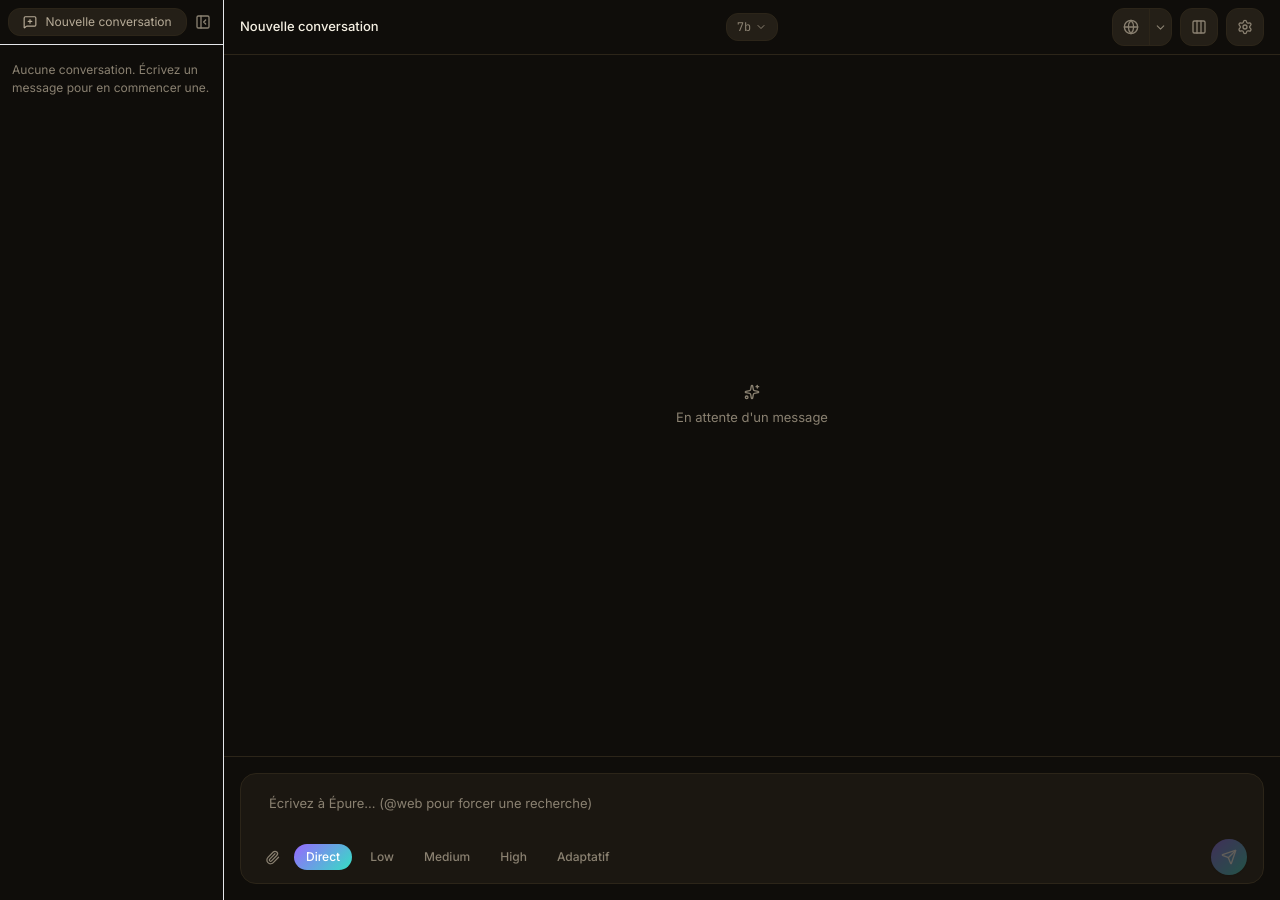
Test: Chat — chargement LM Studio › chargement: true → le libellé s’affiche
Type "Une question" into the text box with placeholder "Écrivez à Épure... (@web pour forcer une recherche)" at (752, 806), box [257,786,1247,826]
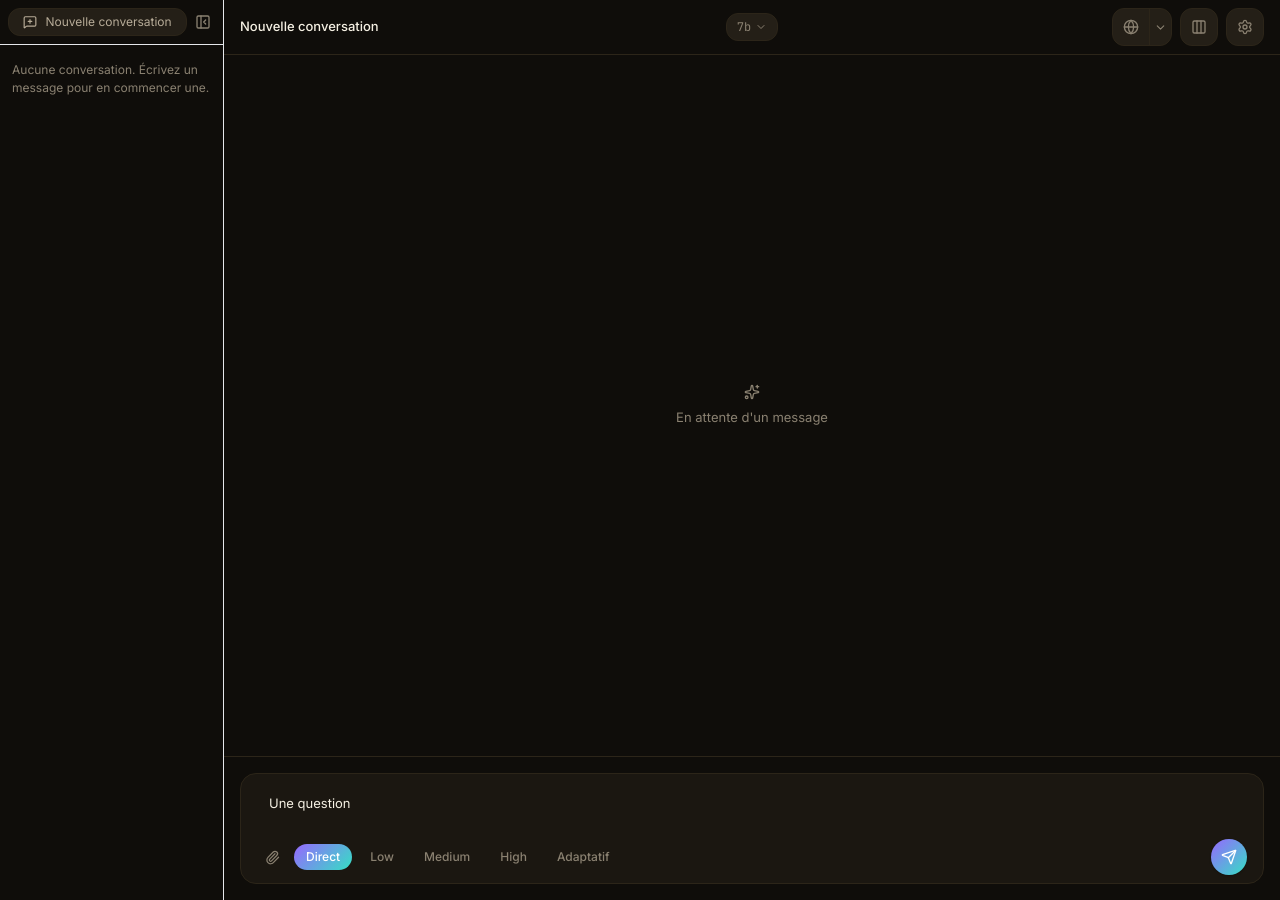
Click the button titled "Envoyer" at (1229, 857), box [1211,839,1247,875]
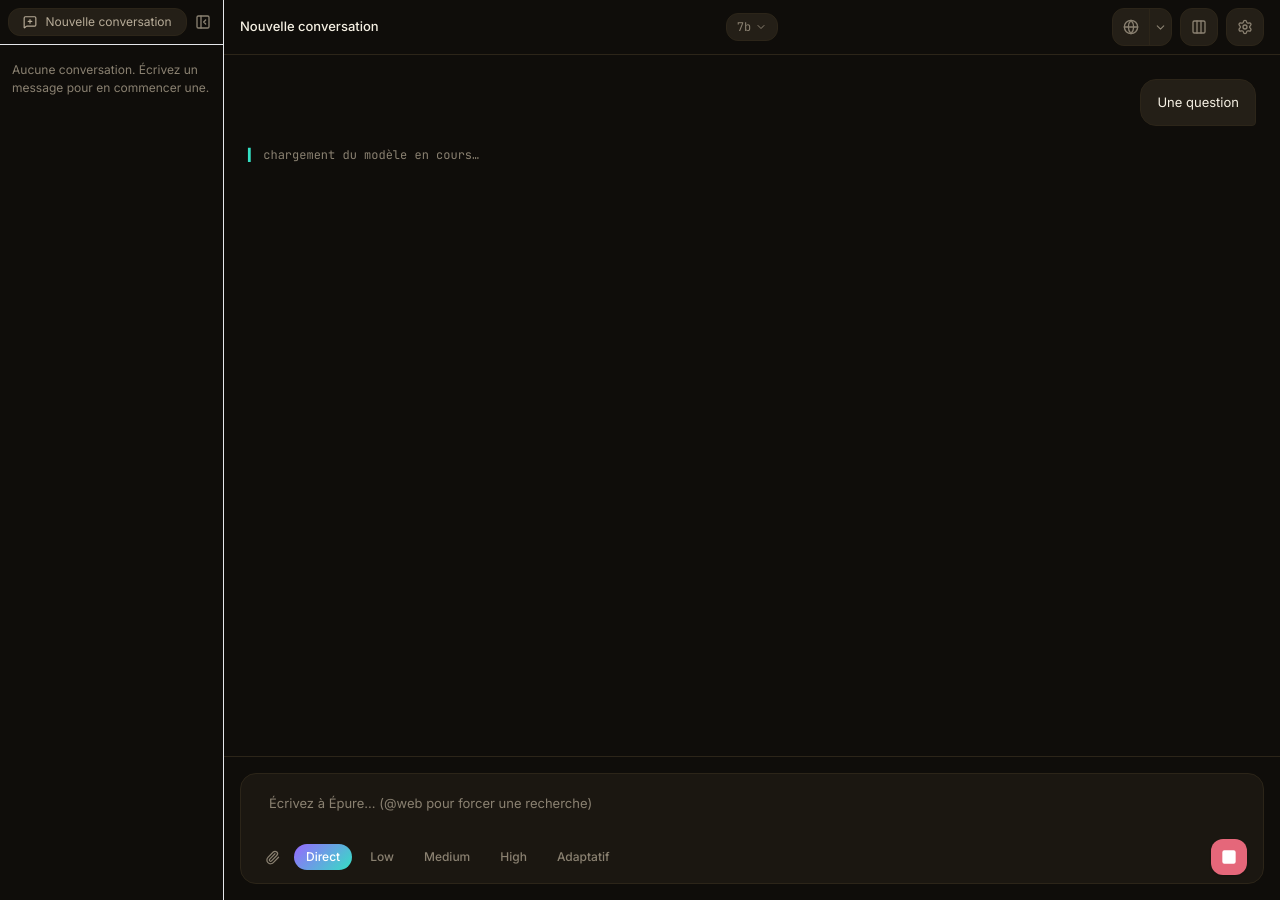
Check: the text "chargement du modèle en cours…" is shown, box [263,146,479,164]
